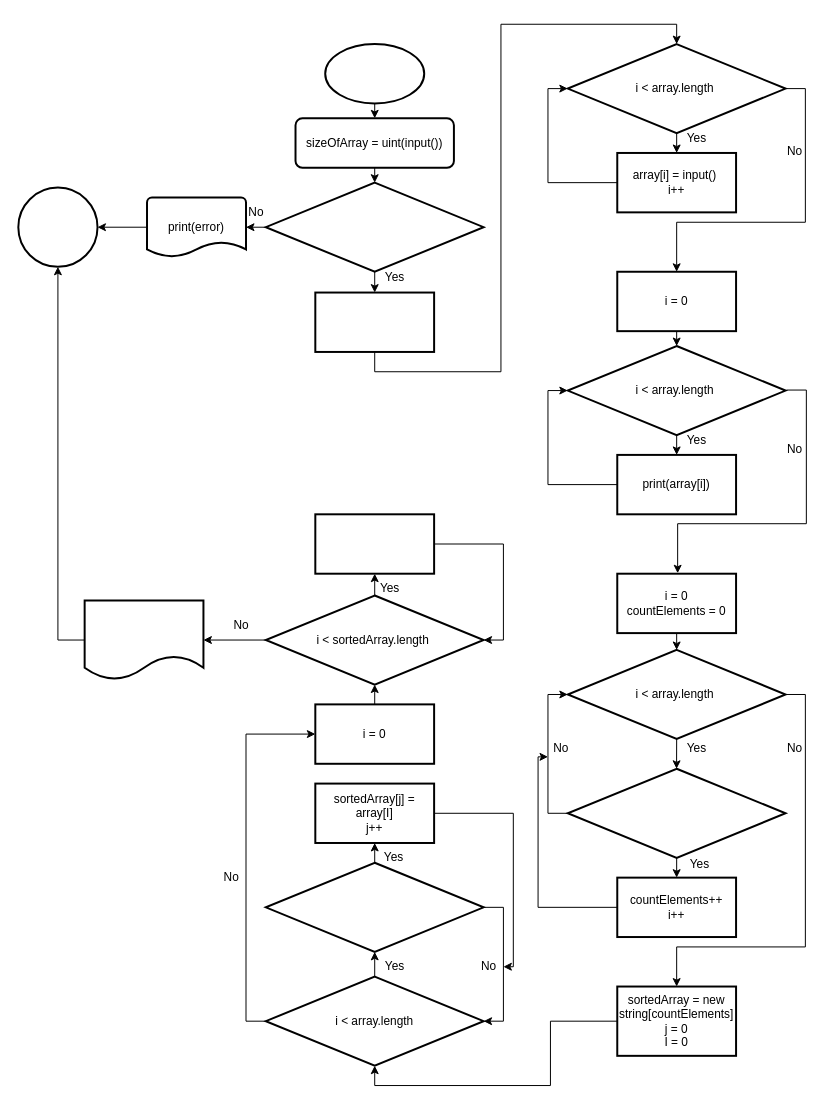
Some shapes in this 832 by 1111 pixel diagram are drawn without their labels. Here are the shapes that lost their labels. From the top down, the centre of each, then its label:
point (374, 73): Start
point (57, 226): End
point (374, 226): isParsed && isGreaterThanZero
point (374, 321): array = new string[sizeOfArray] i = 0
point (374, 543): print(sortedArray[I]) i++
point (143, 639): sortedArray
point (676, 812): array[i].length < 3
point (374, 906): array[I].length <= 3
